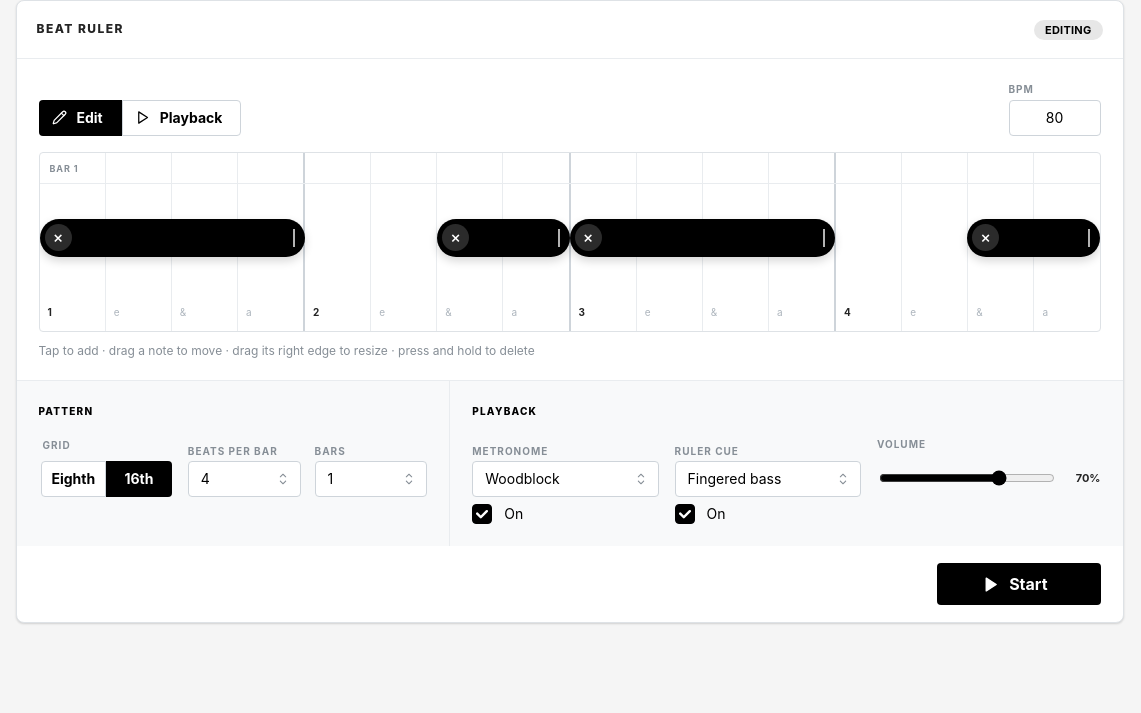
it: Beat Ruler UI › shows a recoverable error and disposes audio resources
The width and height of the screenshot is (1141, 713).
Click the button "Start" at (1018, 584), box [936,563,1100,605]
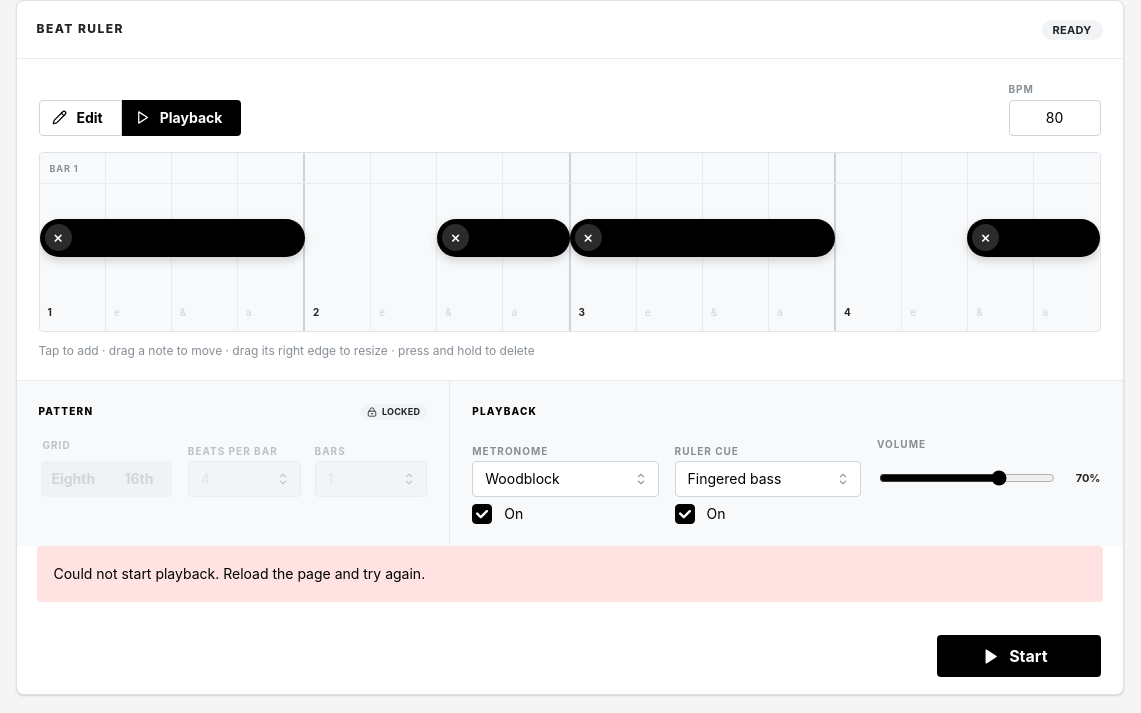
Expected: the message shows "Could not start playback", [54,565,425,582]
